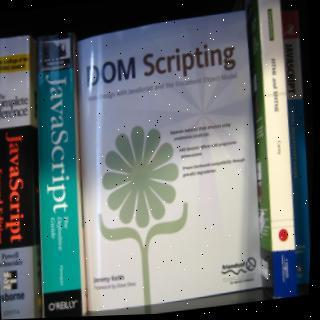book: (65, 10, 273, 311)
